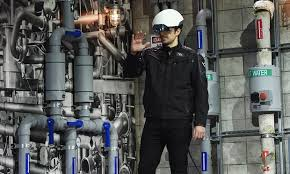Person_wearing_helmet: (146, 8, 187, 32)
